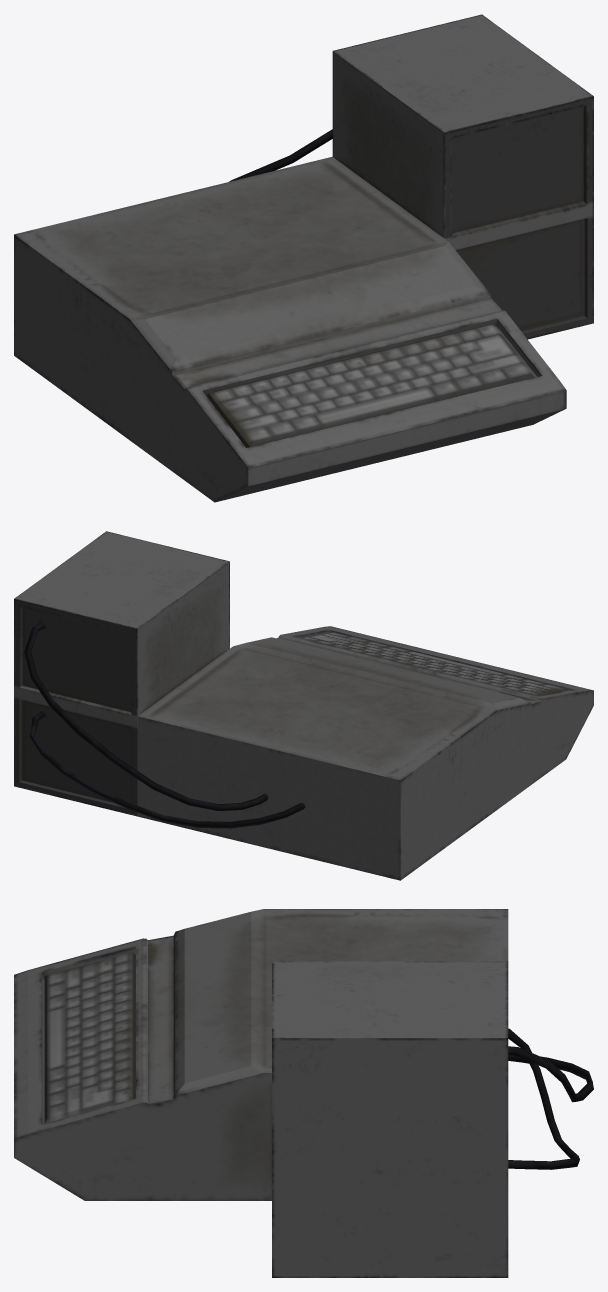
The model's file is keyboard and PC CCTV.fbx.
The picture shows the model from 3 angles, top to bottom: view 1: azimuth 30°, elevation 25°; view 2: azimuth 150°, elevation 25°; view 3: azimuth 270°, elevation 25°; orthographic projection. The views are drawn at different scales.
Parts seen in each view (by area): view 1: Teclado/Pc; view 2: Teclado/Pc; view 3: Teclado/Pc.
Boxes of the visible parts, x1,y1,x2,y2 form: Teclado/Pc: (14, 14, 593, 502); Teclado/Pc: (14, 531, 593, 880); Teclado/Pc: (14, 909, 593, 1277).
Bounding box in the file's own units: 101 × 46.69 × 102.
